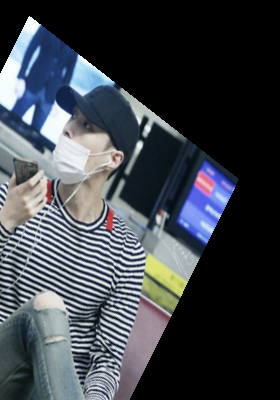mask_weared_incorrect: (46, 67, 152, 200)
